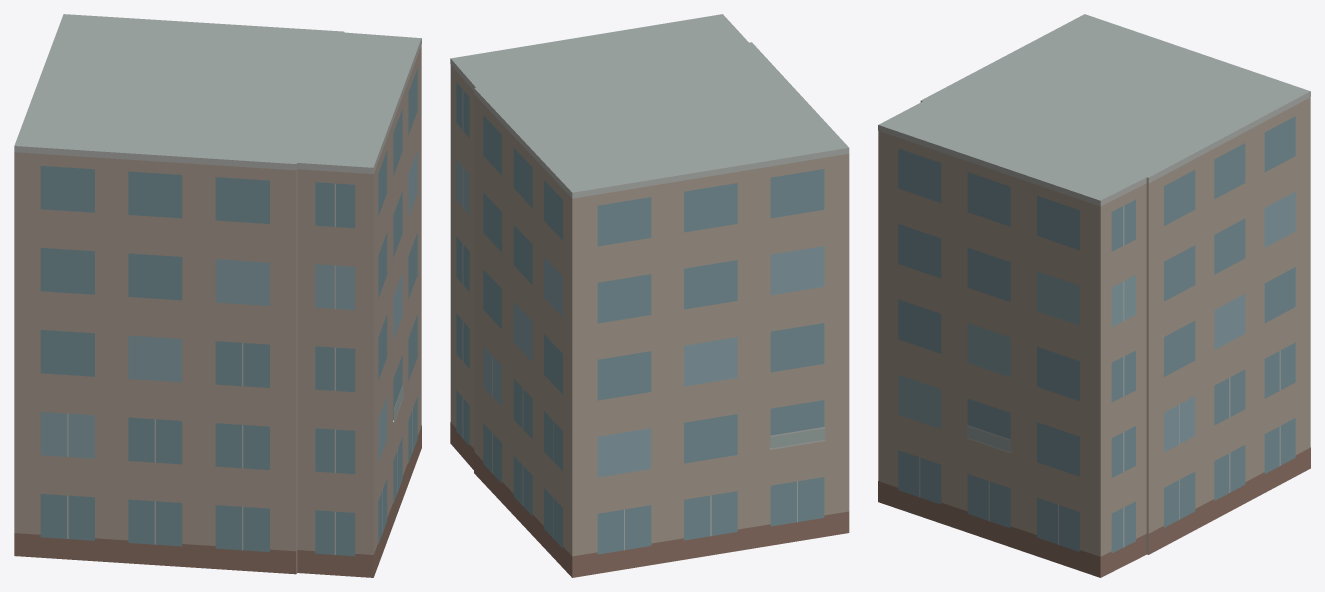
The model's file is survey-upis-32649157.glb.
3 renders of one model, left to right at view 1: azimuth 30°, elevation 25°; view 2: azimuth 150°, elevation 25°; view 3: azimuth 270°, elevation 25°, orthographic. The views are drawn at different scales.
Visible parts, largest first — view 1: survey-upis-32649157.tmp; view 2: survey-upis-32649157.tmp; view 3: survey-upis-32649157.tmp.
Part boxes in pixels (x1=…): survey-upis-32649157.tmp: x1=14, y1=14, x2=421, y2=577; survey-upis-32649157.tmp: x1=450, y1=14, x2=849, y2=577; survey-upis-32649157.tmp: x1=878, y1=14, x2=1310, y2=577.
Size of the model in its own units: 16.85 by 15.86 by 16.49.
